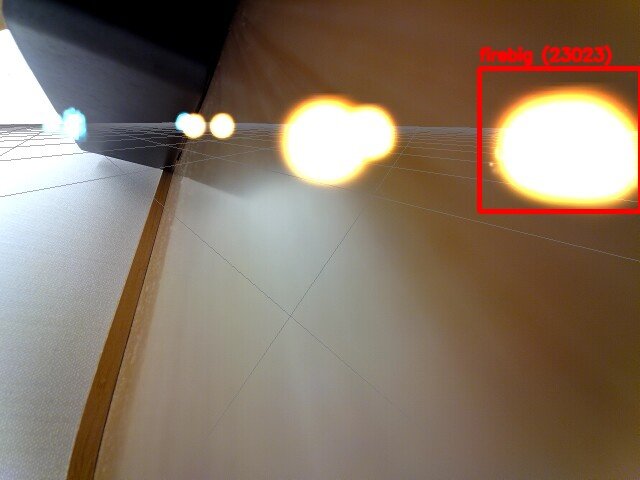firebig: (479, 68, 640, 211)
